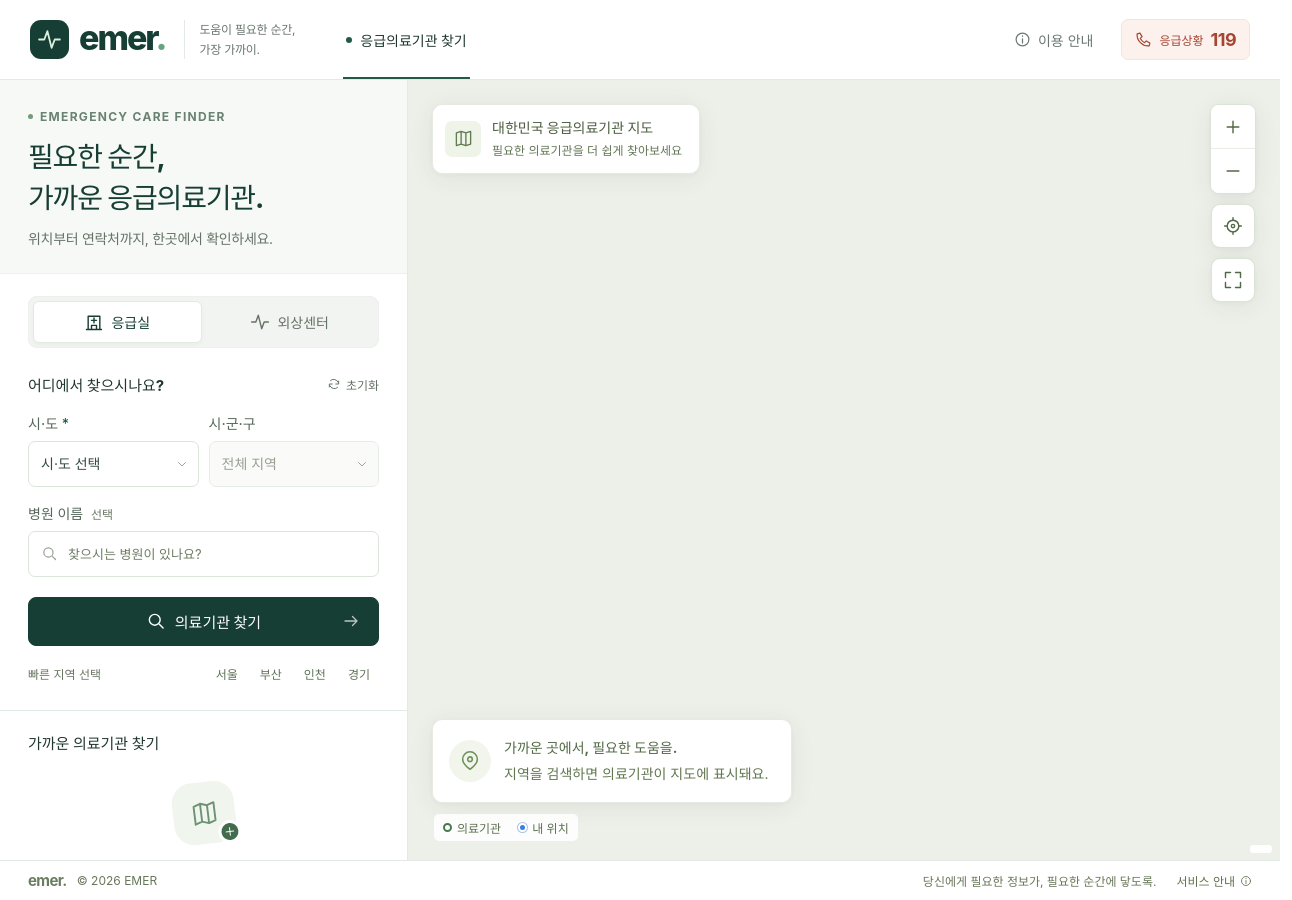
Test: starts without invented results and validates the required region
Expected: the heading "필요한 순간,가까운 응급의료기관." is shown, [28,140,263,215]
Click the button "의료기관 찾기" at point(204, 621), box [28,597,379,646]
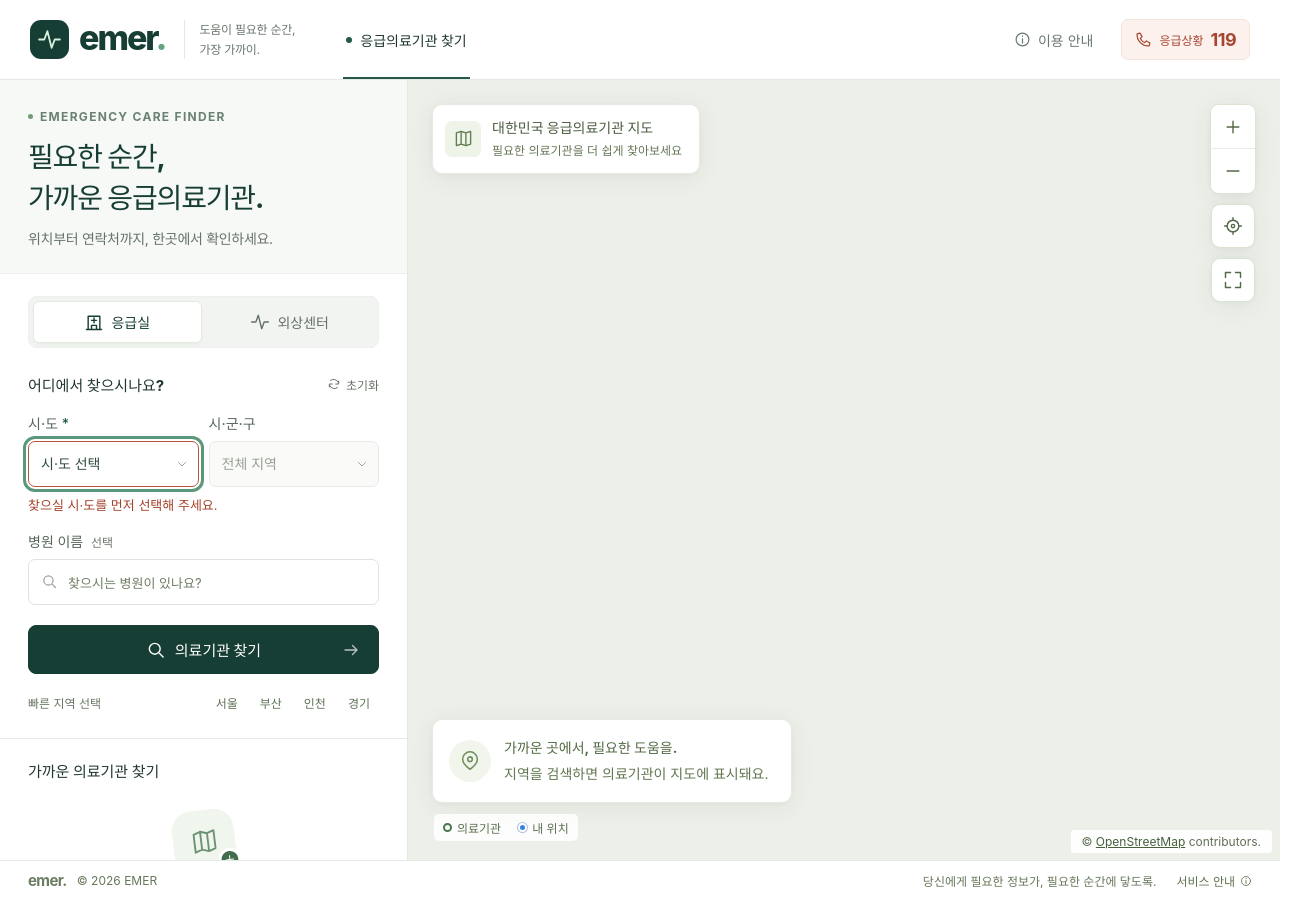
Result: the message shows "시·도를 먼저 선택" at [28,497,218,513]
